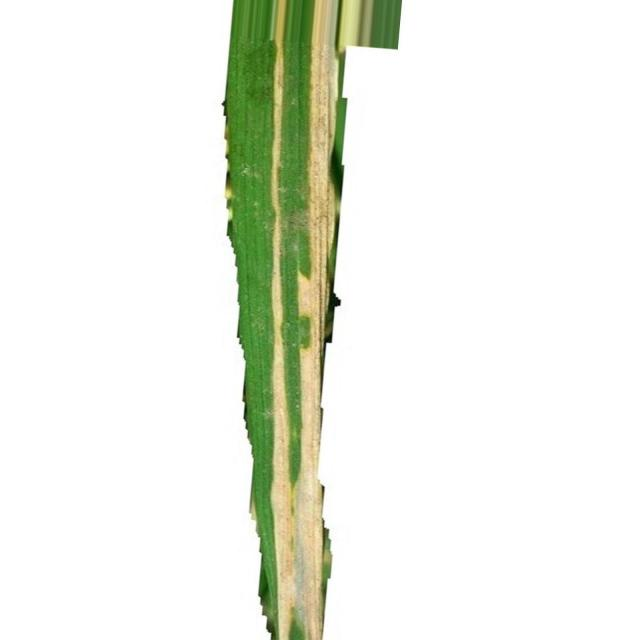Bacterial_Leaf_Blight: (271, 0, 345, 639), (272, 41, 290, 550), (261, 554, 279, 640)
